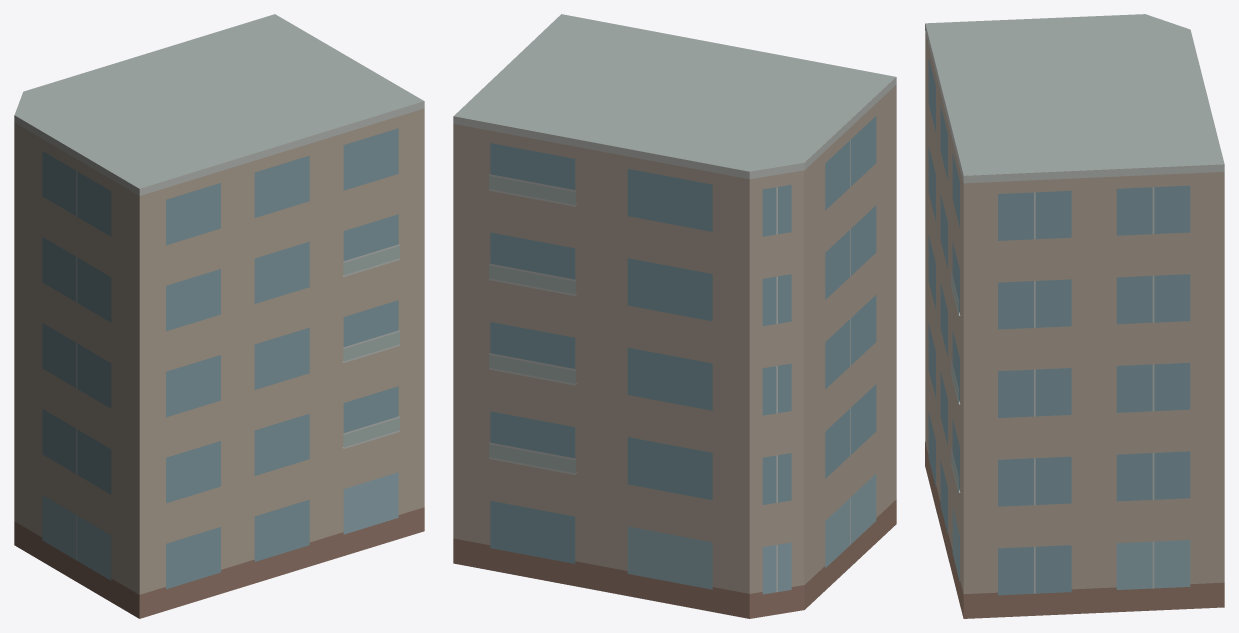
Rendered from survey-upis-32637241.glb.
3 renders of one model, left to right at view 1: azimuth 30°, elevation 25°; view 2: azimuth 150°, elevation 25°; view 3: azimuth 270°, elevation 25°, orthographic. The views are drawn at different scales.
Visible parts, largest first — view 1: survey-upis-32637241.tmp; view 2: survey-upis-32637241.tmp; view 3: survey-upis-32637241.tmp.
Boxes of the visible parts, x1,y1,x2,y2 form: survey-upis-32637241.tmp: (14, 14, 424, 618); survey-upis-32637241.tmp: (453, 14, 896, 618); survey-upis-32637241.tmp: (925, 14, 1224, 618).
Size of the model in its own units: 11.37 by 14.5 by 8.89.
